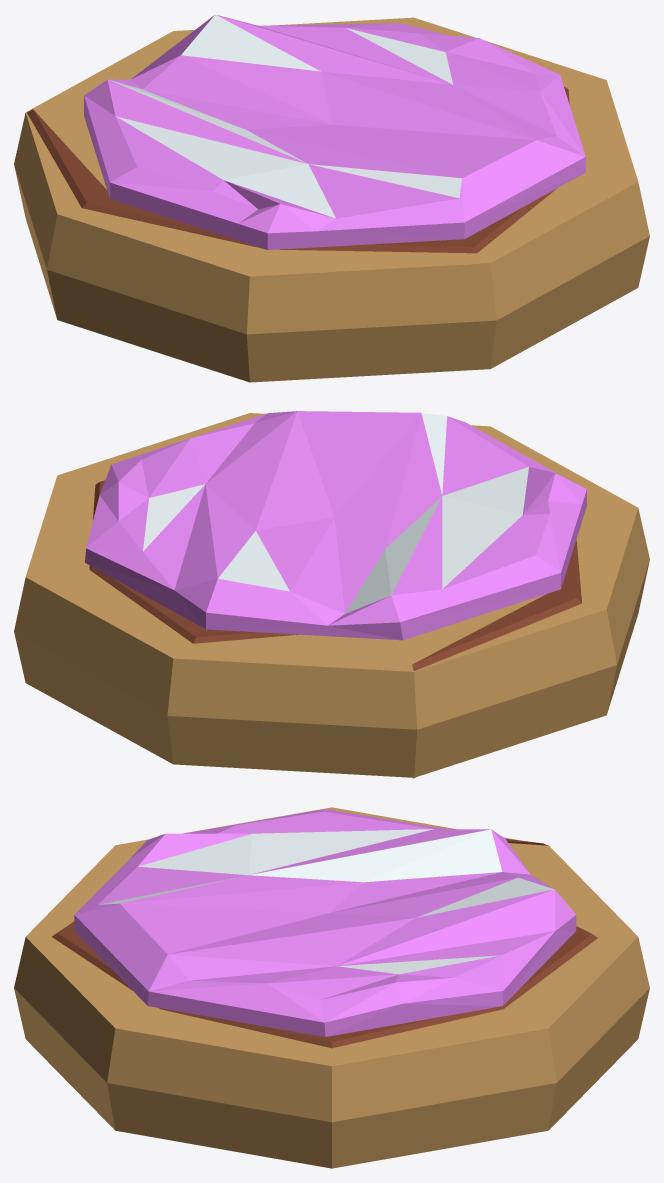
The model's file is Food_FreshPersian.fbx.
3 views of the same model, one above another, from view 1: azimuth 30°, elevation 25°; view 2: azimuth 150°, elevation 25°; view 3: azimuth 270°, elevation 25° (orthographic). The views are drawn at different scales.
Parts seen in each view (by area): view 1: Cylinder.020; view 2: Cylinder.020; view 3: Cylinder.020.
Part boxes in pixels (x1,y1,x2,y2): Cylinder.020: (14,14,649,382); Cylinder.020: (14,411,649,778); Cylinder.020: (14,807,649,1168).
Size of the model in its own units: 21.88 by 6 by 21.88.
